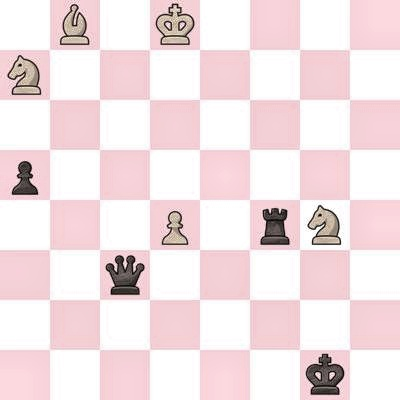black-king: (300, 350, 350, 400)
black-pawn: (0, 150, 50, 200)
black-queen: (100, 250, 150, 300)
black-rook: (250, 200, 300, 250)
white-bishop: (50, 0, 100, 50)
white-king: (150, 0, 200, 50)
white-knight: (0, 50, 50, 100), (300, 200, 350, 250)
white-pawn: (150, 200, 200, 250)
